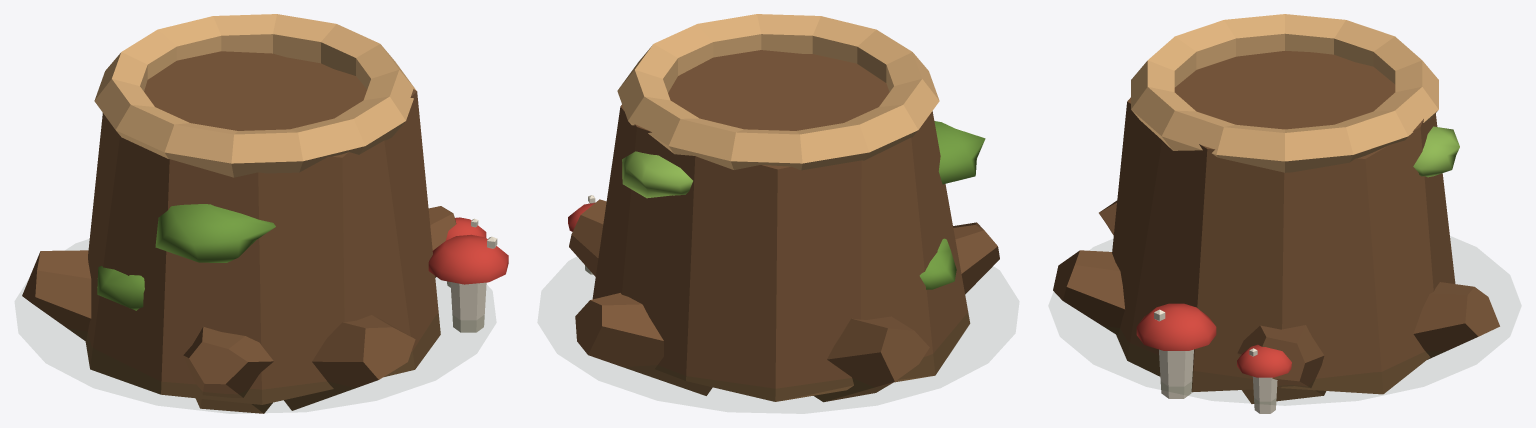
The model's file is stump.glb.
The picture shows the model from 3 angles, left to right: view 1: azimuth 30°, elevation 25°; view 2: azimuth 150°, elevation 25°; view 3: azimuth 270°, elevation 25°; orthographic projection. The views are drawn at different scales.
Visible parts, largest first — view 1: stump; view 2: stump; view 3: stump.
Boxes of the visible parts, left/top/right/bottom form: stump: left=22, top=14, right=508, bottom=413; stump: left=568, top=14, right=999, bottom=402; stump: left=1053, top=14, right=1500, bottom=413.
Size of the model in its own units: 0.9743 by 0.6296 by 0.96.
